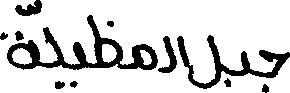X: (0, 0, 38, 74), (87, 10, 122, 73), (190, 30, 220, 92), (260, 45, 289, 92), (45, 22, 63, 92), (133, 39, 156, 74), (74, 37, 85, 92), (178, 31, 188, 83), (164, 31, 175, 77), (243, 46, 249, 80)
